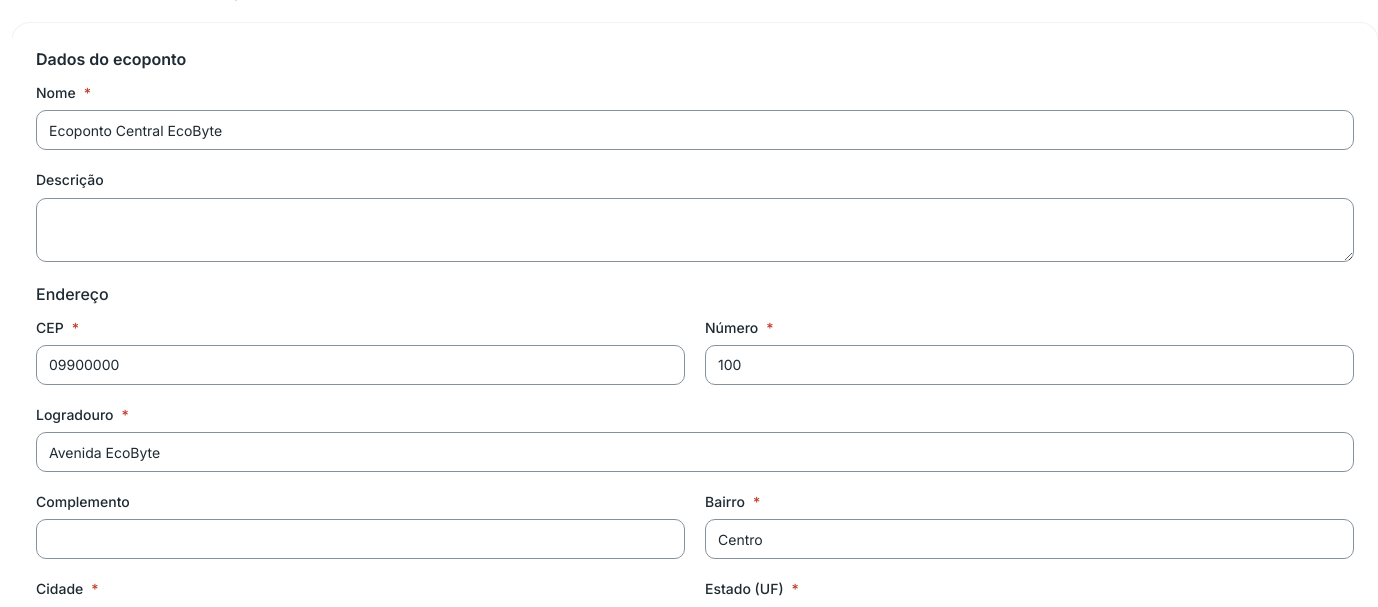
Scenario: AdminEcopoint (RF-039, DEC-065, DEC-076) › leva os erros de campo da API para o formulário
In the field labelled "Nome *": (695, 130) [36,110,1354,150], type " 2"
(page scrolled)
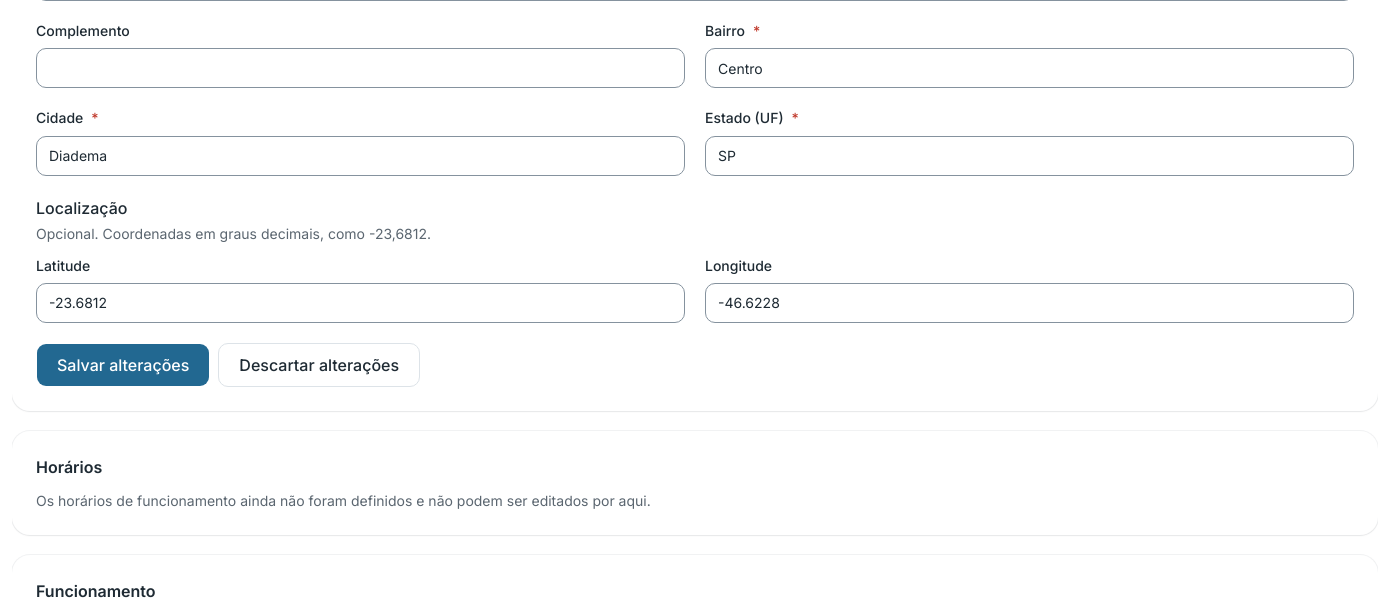
Click the button "Salvar alterações": (123, 365) [36,343,210,387]
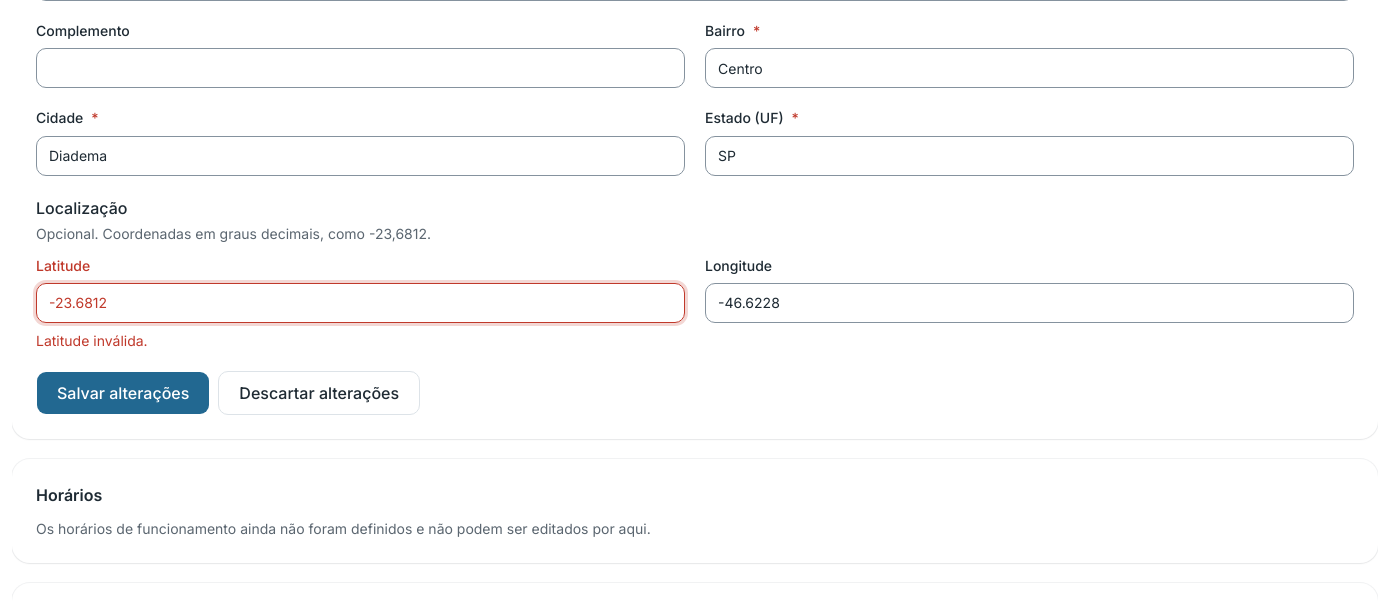
Now the text "Latitude inválida." is shown, box [36,332,148,349]
